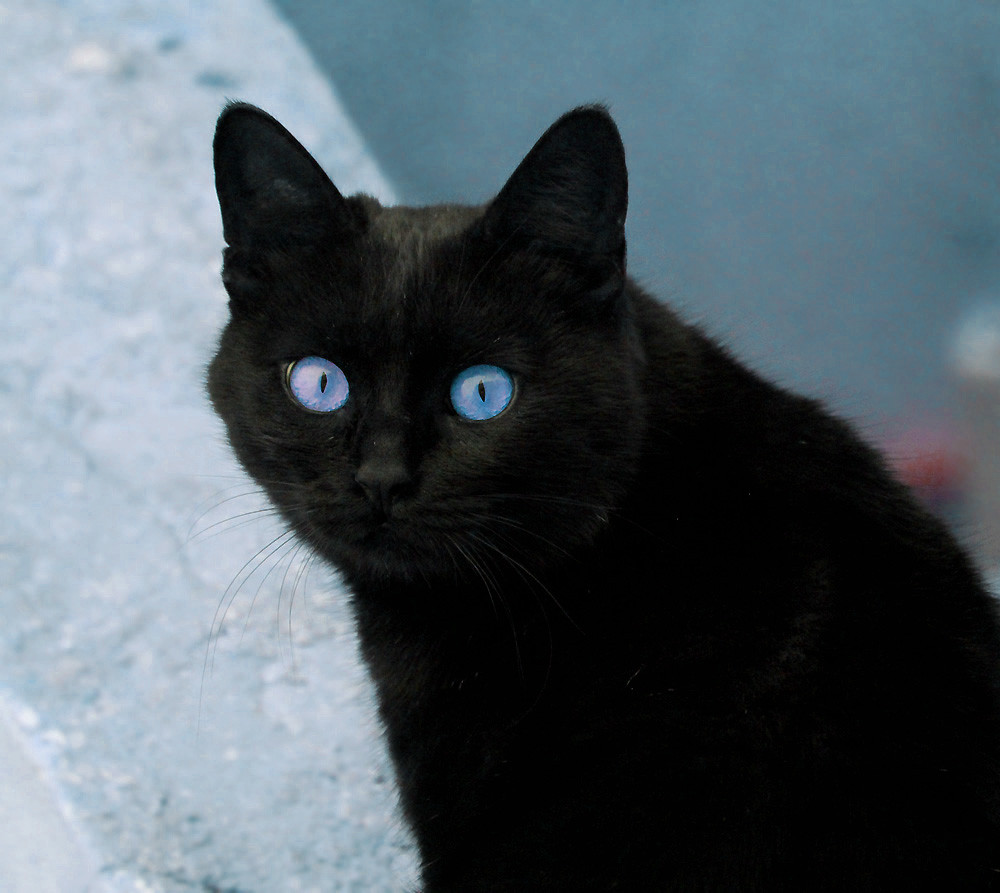cat: (197, 95, 1000, 890)
